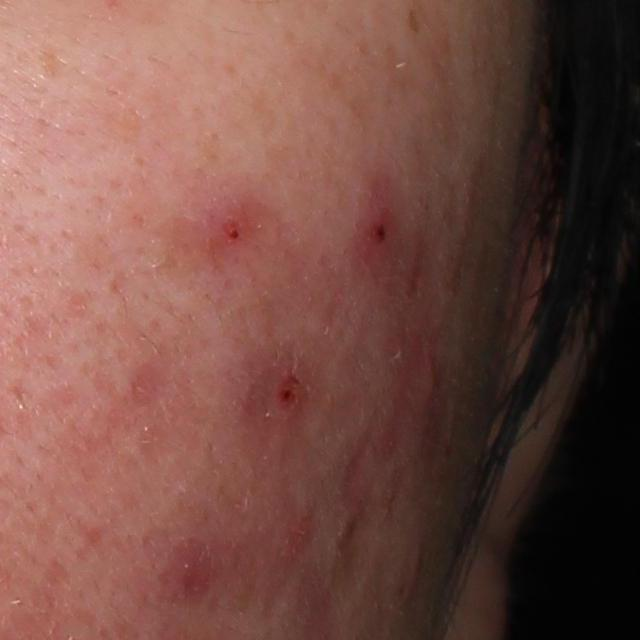melasma: (37, 44, 70, 85)
papule: (158, 538, 211, 604), (362, 191, 405, 254), (413, 350, 453, 416), (278, 511, 319, 564), (272, 367, 308, 418)
